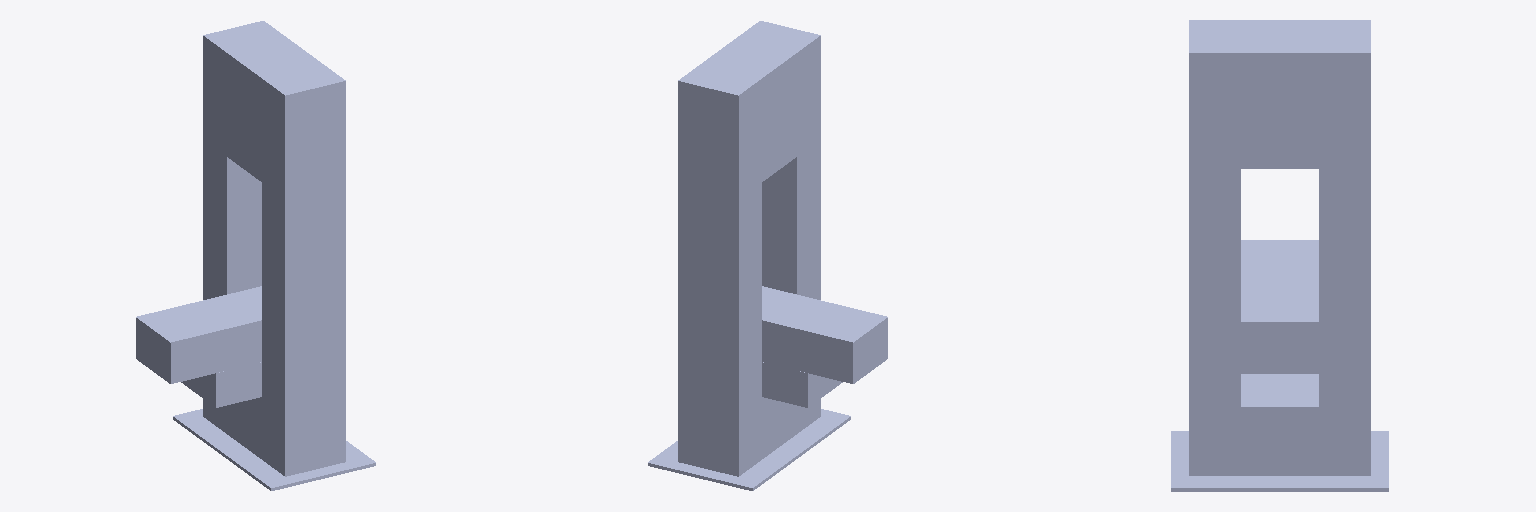
robot.urdf — switch6:
<?xml version="1.0" encoding="utf-8"?>
<!-- This URDF was automatically created by SolidWorks to URDF Exporter! Originally created by [author] ([email redacted]) 
     Commit Version: 1.6.0-4-g7f85cfe  Build Version: 1.6.7995.38578
     For more information, please see http://wiki.ros.org/sw_urdf_exporter -->
<robot
  name="switch6">
  <link
    name="base_link">
    <inertial>
      <origin
        xyz="-0.0063402 -0.041255 -4.5858E-17"
        rpy="0 0 0" />
      <mass
        value="90.964" />
      <inertia
        ixx="15.153"
        ixy="-5.6488E-16"
        ixz="-1.2509E-16"
        iyy="2.3598"
        iyz="7.0365E-16"
        izz="13.416" />
    </inertial>
    <visual>
      <origin
        xyz="0 0 0"
        rpy="0 0 0" />
      <geometry>
        <mesh
          filename="package://switch6/meshes/base_link.STL" />
      </geometry>
      <material
        name="">
        <color
          rgba="0.79216 0.81961 0.93333 1" />
      </material>
    </visual>
    <collision>
      <origin
        xyz="0 0 0"
        rpy="0 0 0" />
      <geometry>
        <mesh
          filename="package://switch6/meshes/base_link.STL" />
      </geometry>
    </collision>
  </link>
  <link
    name="empty_link">
    <inertial>
      <origin
        xyz="-0.25 1.8956E-17 0"
        rpy="0 0 0" />
      <mass
        value="13.17" />
      <inertia
        ixx="0.06305"
        ixy="0"
        ixz="0"
        iyy="0.29333"
        iyz="5.8656E-18"
        izz="0.31848" />
    </inertial>
    <visual>
      <origin
        xyz="0 0 0"
        rpy="0 0 0" />
      <geometry>
        <mesh
          filename="package://switch6/meshes/empty_link.STL" />
      </geometry>
      <material
        name="">
        <color
          rgba="0.79216 0.81961 0.93333 1" />
      </material>
    </visual>
    <collision>
      <origin
        xyz="0 0 0"
        rpy="0 0 0" />
      <geometry>
        <mesh
          filename="package://switch6/meshes/empty_link.STL" />
      </geometry>
    </collision>
  </link>
  <joint
    name="empty_joint"
    type="prismatic">
    <origin
      xyz="0.1 0 -0.2626"
      rpy="0 0 0" />
    <parent
      link="base_link" />
    <child
      link="empty_link" />
    <axis
      xyz="0 0 -1" />
    <limit
      lower="-0.4"
      upper="0"
      effort="0"
      velocity="0" />
    <dynamics
      damping="0.001"
      friction="0.01" />
  </joint>
</robot>

--- What the picture shows (computed from the rendered views, not written in the file) ---
3 views of the same robot in one strip: view 1: azimuth 30°, elevation 25°; view 2: azimuth 150°, elevation 25°; view 3: azimuth 270°, elevation 25° (orthographic).
Model switch6 with 2 links and 1 joints (1 prismatic), rooted at base_link, posed every joint at zero.
Visible links, largest first — view 1: base_link, empty_link; view 2: base_link, empty_link; view 3: base_link, empty_link.
Link boxes in pixels (box(x1,y1,x2,y2)): base_link: box(173, 21, 375, 490); empty_link: box(136, 286, 261, 383); base_link: box(648, 21, 850, 490); empty_link: box(762, 286, 887, 383); base_link: box(1171, 20, 1388, 491); empty_link: box(1241, 240, 1318, 367).
Bounding box of the posed robot: 0.5733 × 0.563 × 1.21 m (x, y, z).
Meshes: 2 distinct files referenced, 2 mesh visuals loaded (2 binary STL).